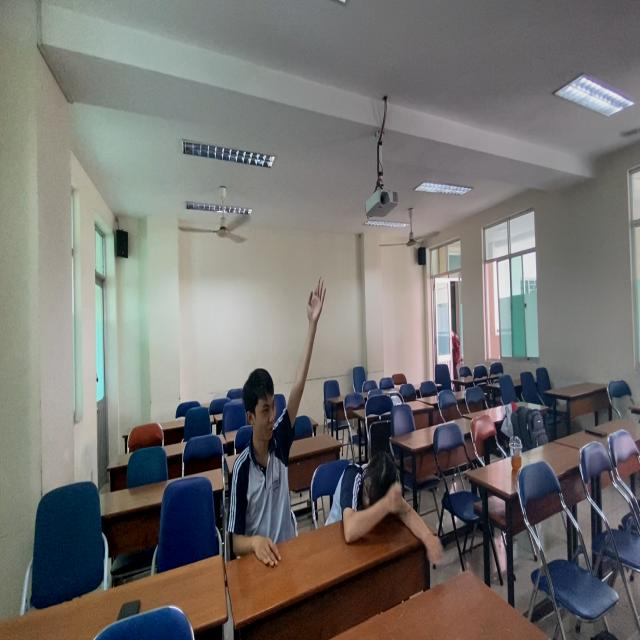raise_hand: (233, 276, 330, 556)
sleep: (325, 440, 423, 557)
